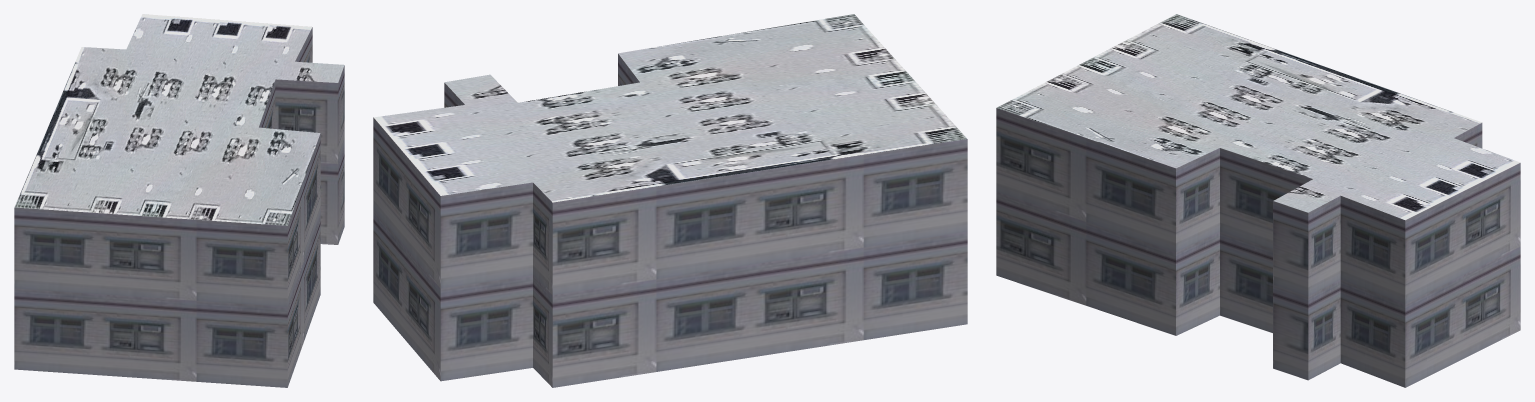
The model's file is ResTex__2107.fbx.
3 views of the same model, side by side, from view 1: azimuth 30°, elevation 25°; view 2: azimuth 150°, elevation 25°; view 3: azimuth 270°, elevation 25° (orthographic). The views are drawn at different scales.
Parts seen in each view (by area): view 1: CityEngineMaterial_1_m, CityEngineMaterial_8_m; view 2: CityEngineMaterial_1_m, CityEngineMaterial_8_m; view 3: CityEngineMaterial_1_m, CityEngineMaterial_8_m.
Boxes of the visible parts, box(x1,y1,x2,y2) form: CityEngineMaterial_1_m: box(14, 27, 344, 387); CityEngineMaterial_8_m: box(14, 14, 344, 225); CityEngineMaterial_1_m: box(373, 54, 967, 387); CityEngineMaterial_8_m: box(374, 14, 966, 202); CityEngineMaterial_1_m: box(996, 108, 1520, 387); CityEngineMaterial_8_m: box(996, 14, 1520, 220).
Bounding box in the file's own units: 15.84 × 6 × 17.01.
2 materials, 2 textured.
